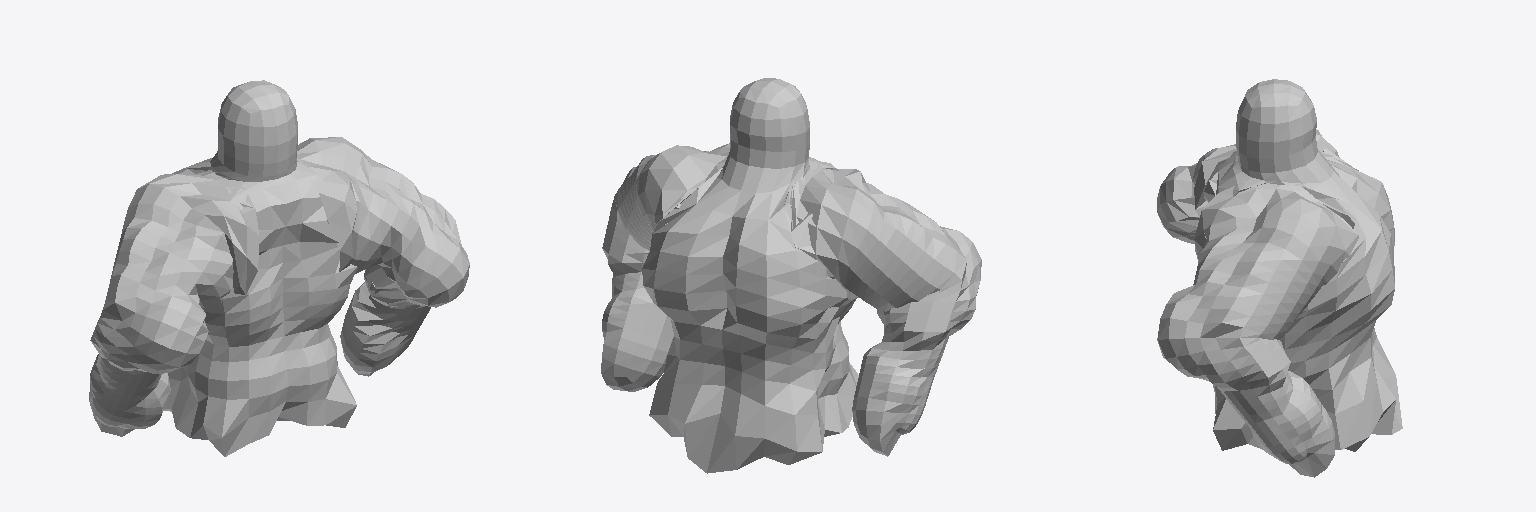
The model's file is MAN_YETI.-1obj.OBJ.
3 views of the same model, side by side, from view 1: azimuth 30°, elevation 25°; view 2: azimuth 150°, elevation 25°; view 3: azimuth 270°, elevation 25° (orthographic).
Parts seen in each view (by area): view 1: Group6638, Group4922, Group6911, Group12432, Group6358, ZSphere 0, Group18078, Group11645; view 2: Group4922, Group6911, Group6638, Group6358, Group12432, Group11645, Group17358, Group18078; view 3: Group4922, Group6638, Group6911, Group12432, Group6358, Group11645, Group18078, Group17358, ZSphere 0.
Part boxes in pixels (x1,y1,x2,y2): Group6638: (103,137,469,353); Group4922: (163,168,357,456); Group6911: (89,265,469,436); Group12432: (218,80,297,176); Group6358: (140,137,356,291); ZSphere 0: (229,175,338,268); Group18078: (194,157,352,294); Group11645: (186,151,317,197); Group4922: (642,204,858,473); Group6911: (601,196,981,456); Group6638: (615,151,981,311); Group6358: (645,143,865,278); Group12432: (730,78,809,168); Group11645: (697,152,833,219); Group17358: (660,168,838,252); Group18078: (662,157,836,245); Group4922: (1213,168,1402,451); Group6638: (1157,144,1330,339); Group6911: (1157,215,1334,477); Group12432: (1236,79,1317,172); Group6358: (1194,129,1357,284); Group11645: (1233,150,1356,203); Group18078: (1194,155,1358,261); Group17358: (1210,148,1365,262); ZSphere 0: (1204,151,1238,202).
Bounding box in the file's own units: 3.13 × 2.91 × 1.88.